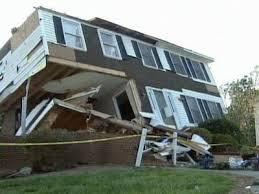destroyed: (0, 2, 235, 169)
